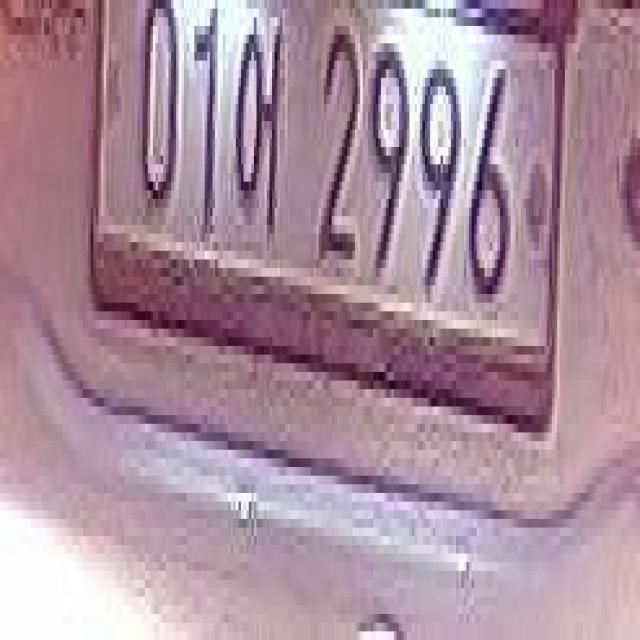illegal_plate: (74, 0, 573, 432)
